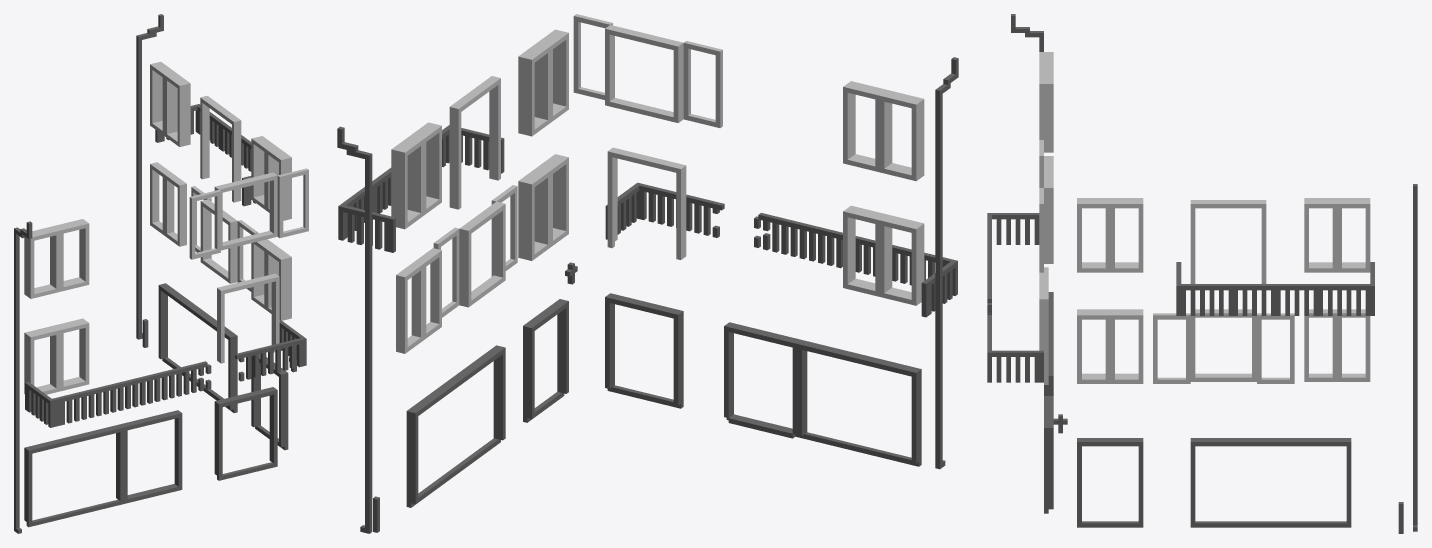
File: immobiliare san marco metallo.obj
3 views of the same model, side by side, from view 1: azimuth 30°, elevation 25°; view 2: azimuth 150°, elevation 25°; view 3: azimuth 270°, elevation 25° (orthographic). The views are drawn at different scales.
Bounding box in the file's own units: 9.1 × 8.4 × 9.1.
1 material, 1 textured.
